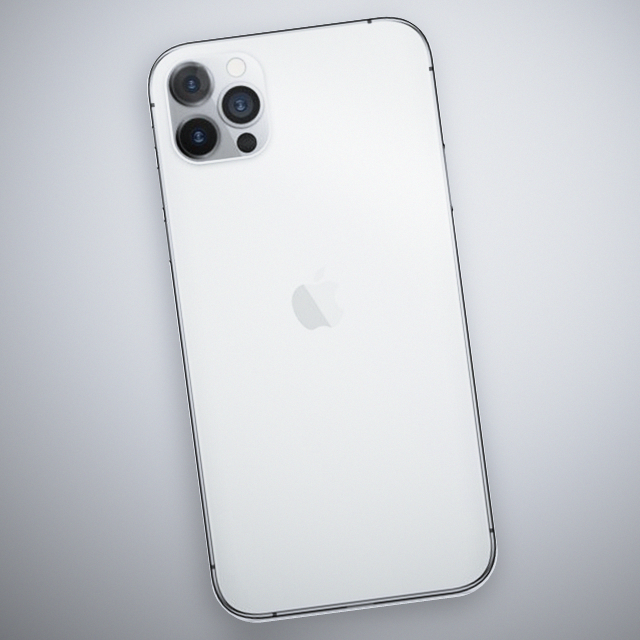iphone_12pro_silver: (132, 18, 525, 628), (157, 38, 276, 168)
